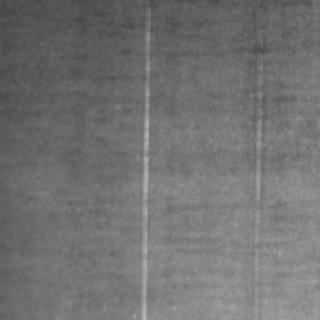scratches: (133, 5, 155, 317)
